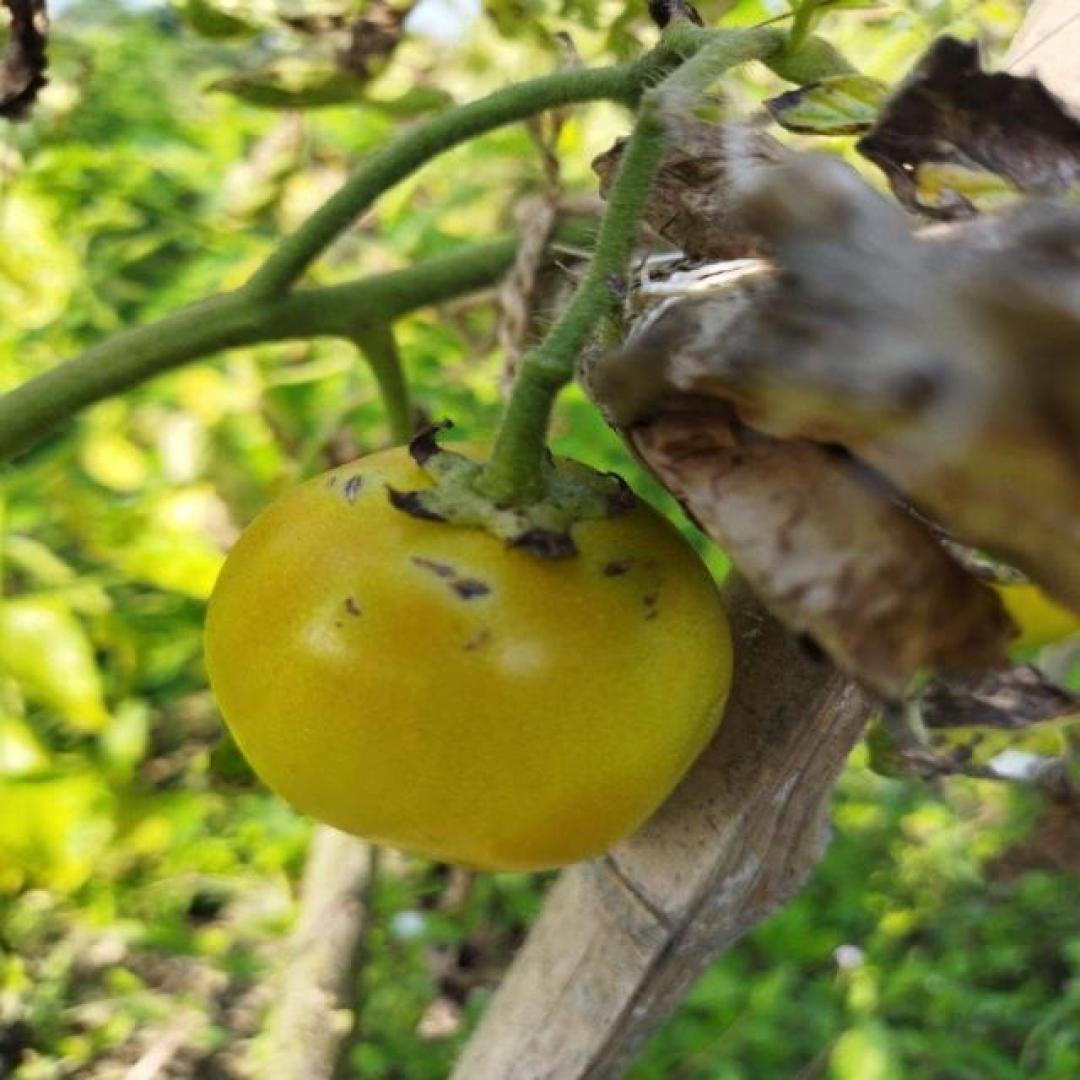setengah_matang: (199, 435, 738, 876)
